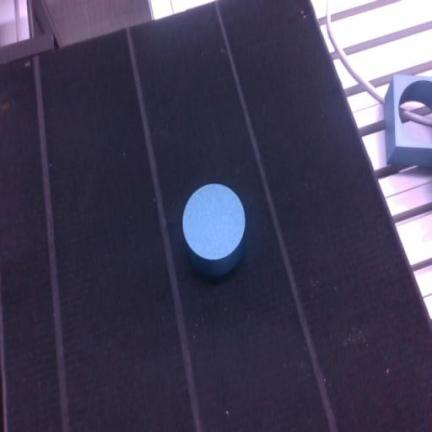cylinder: (182, 183, 245, 278)
